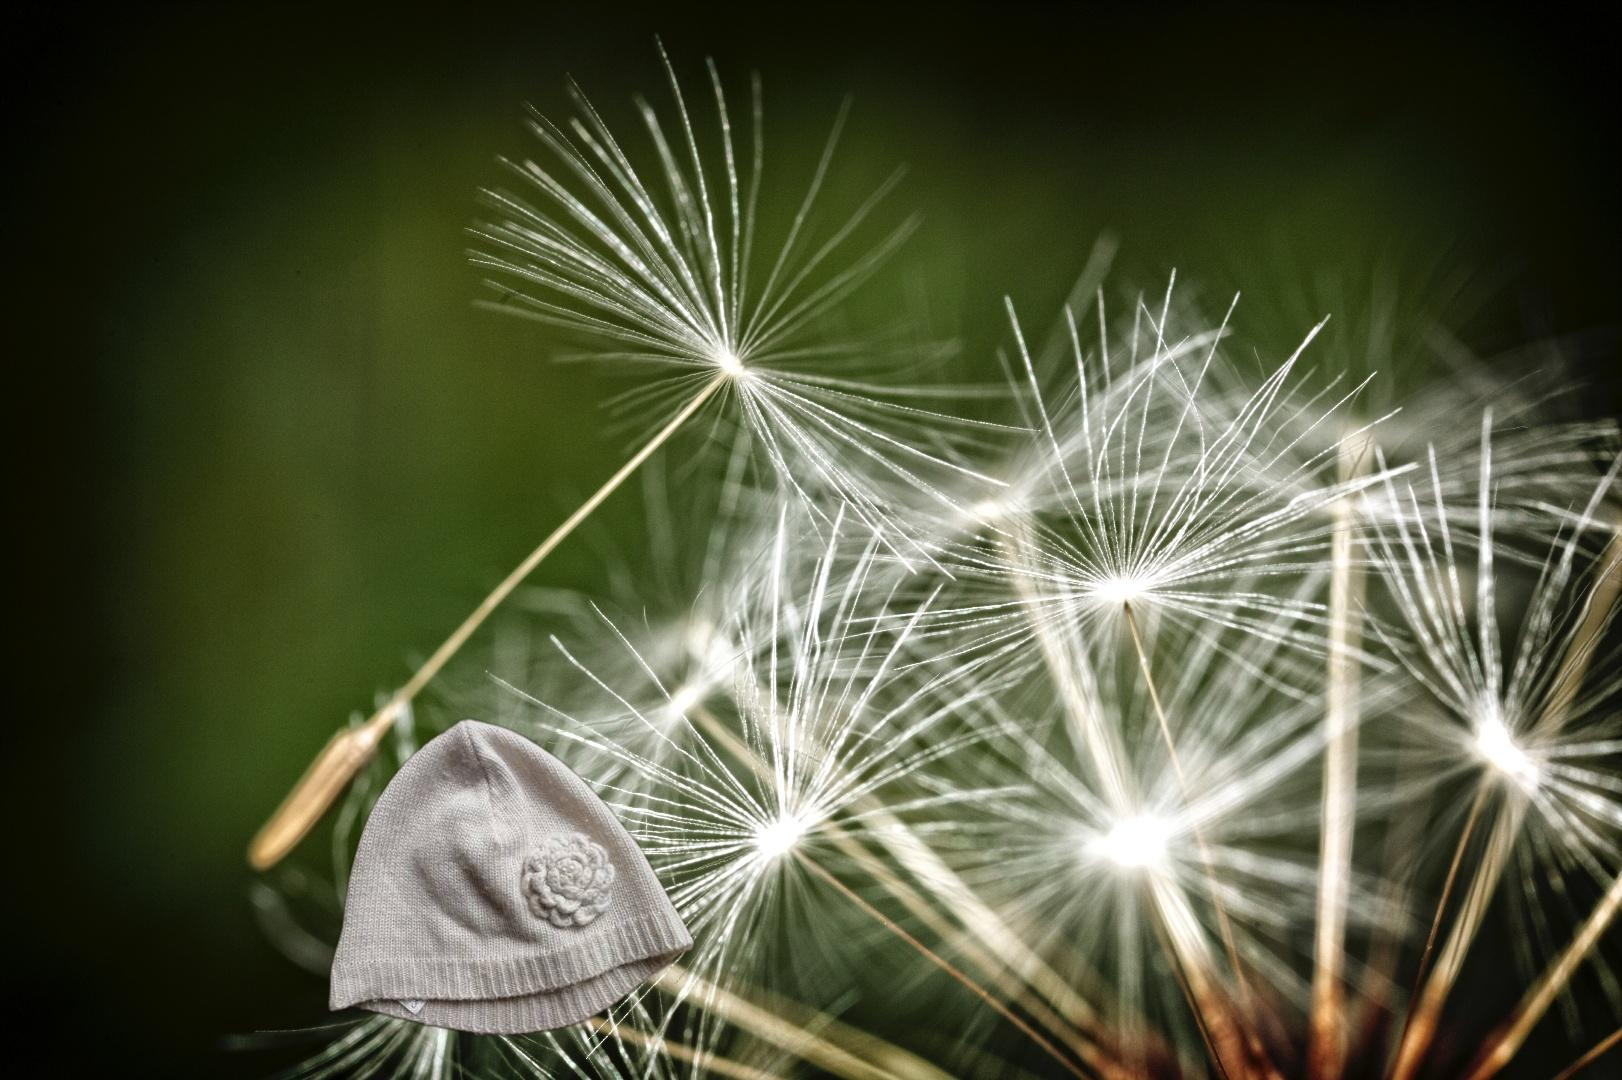clothes: (324, 703, 698, 1041)
